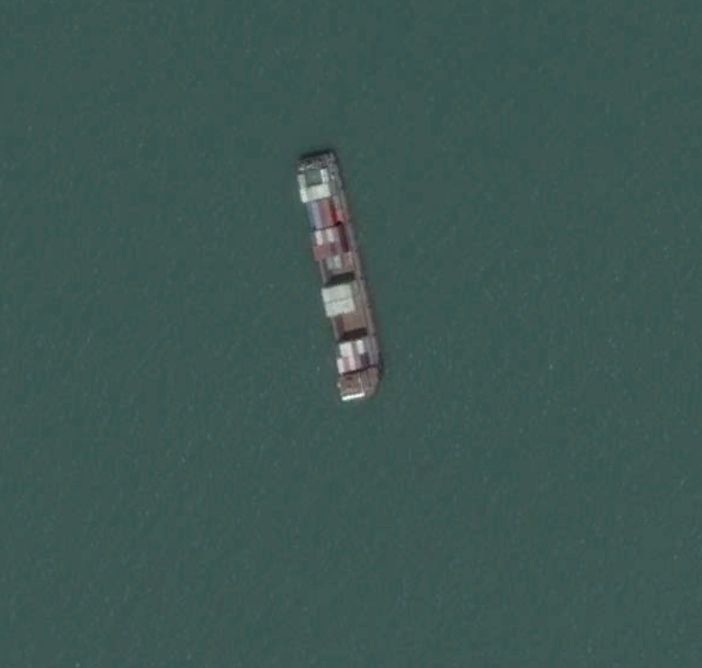boat: (293, 147, 385, 405)
